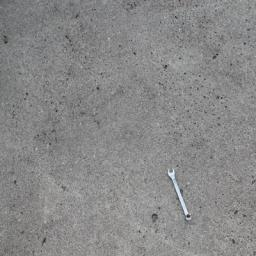FOD: (167, 168, 194, 222)
